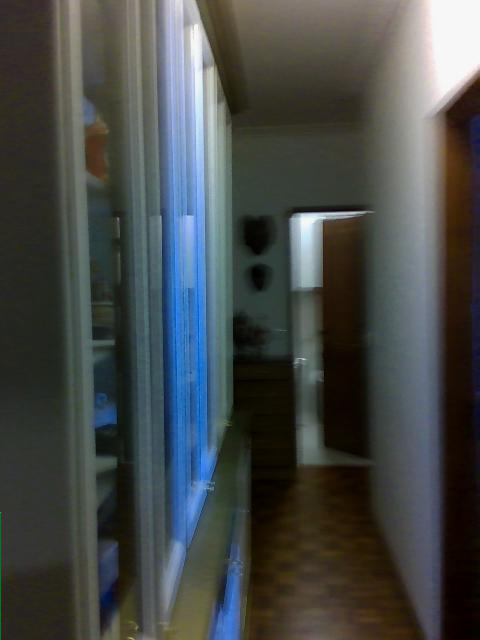semi_door: (285, 205, 377, 465)
